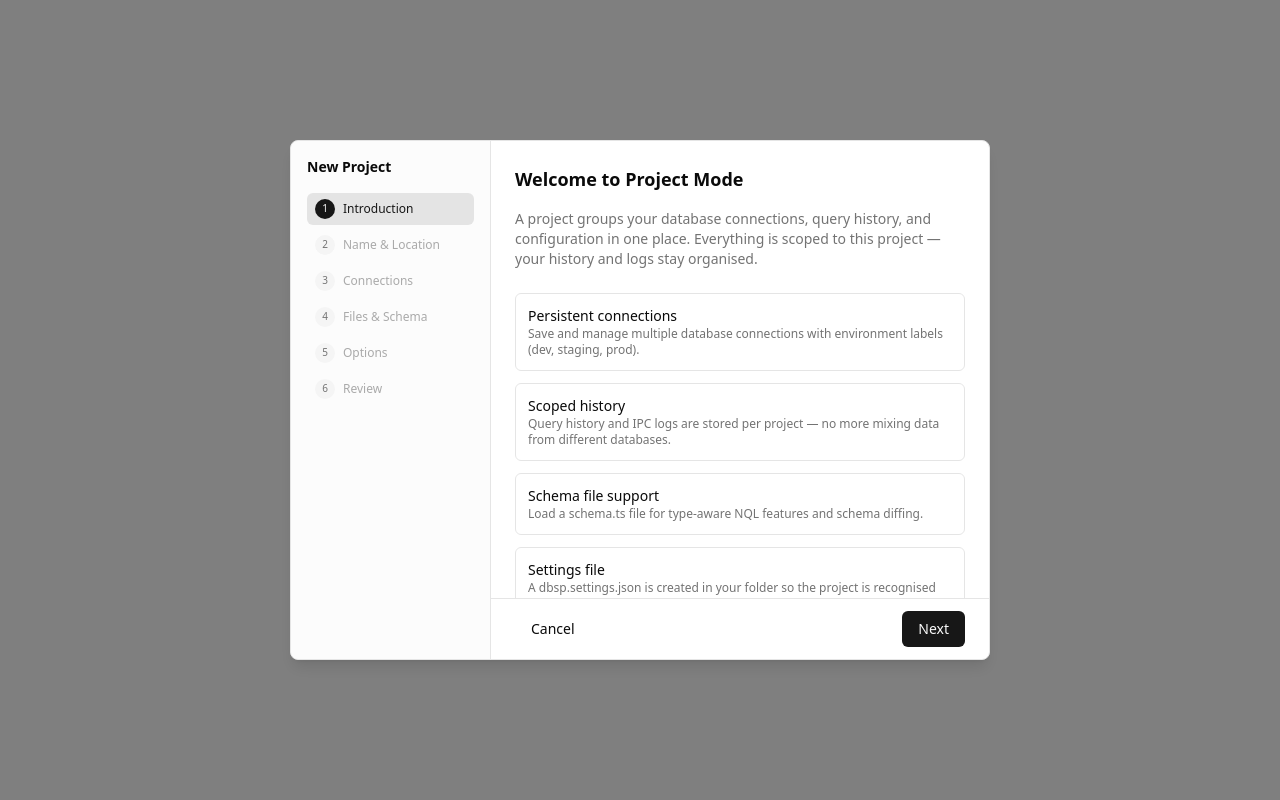
Scenario: NewProjectWizard › enables Next on step 1 when name and folder are filled
Click the button with test id "wizard-next" at (934,629), box left=902, top=611, right=965, bottom=647
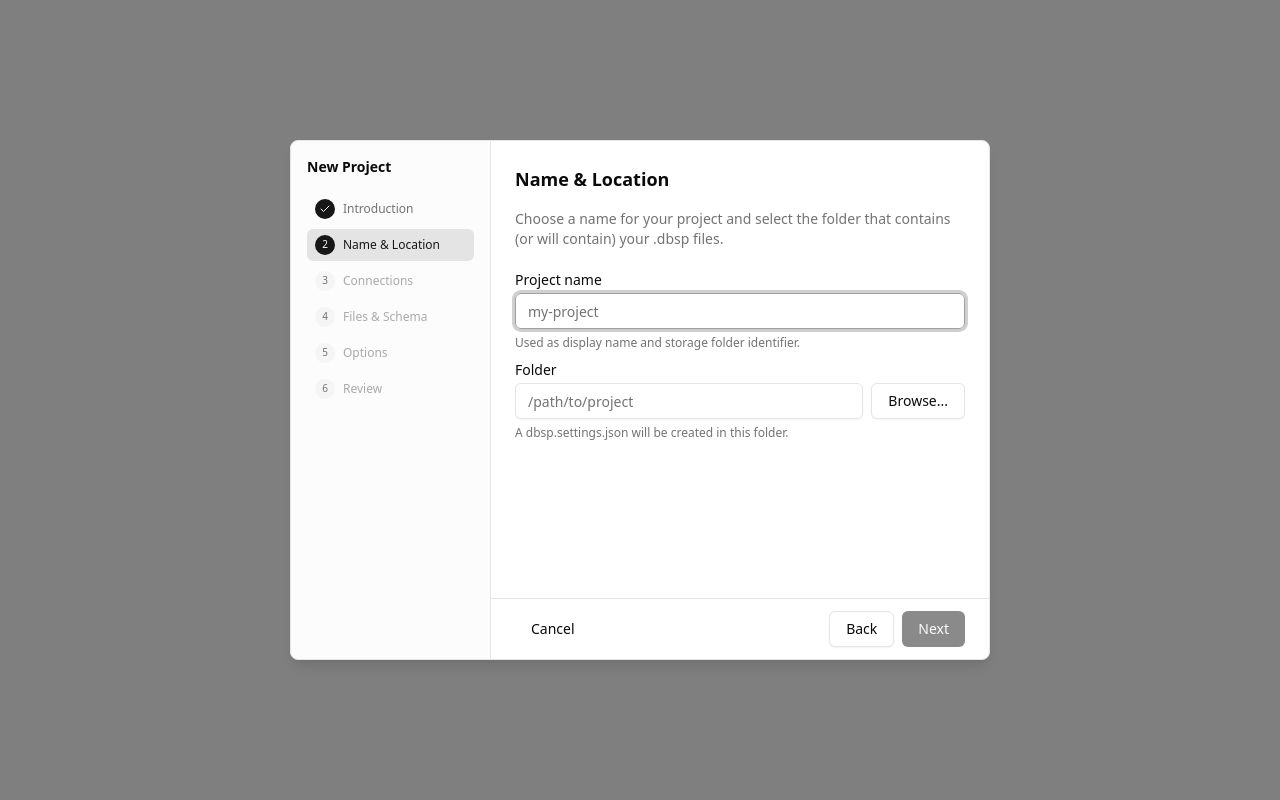
Type "test-project" into the field with placeholder "my-project" at (740,311), box left=515, top=293, right=965, bottom=329
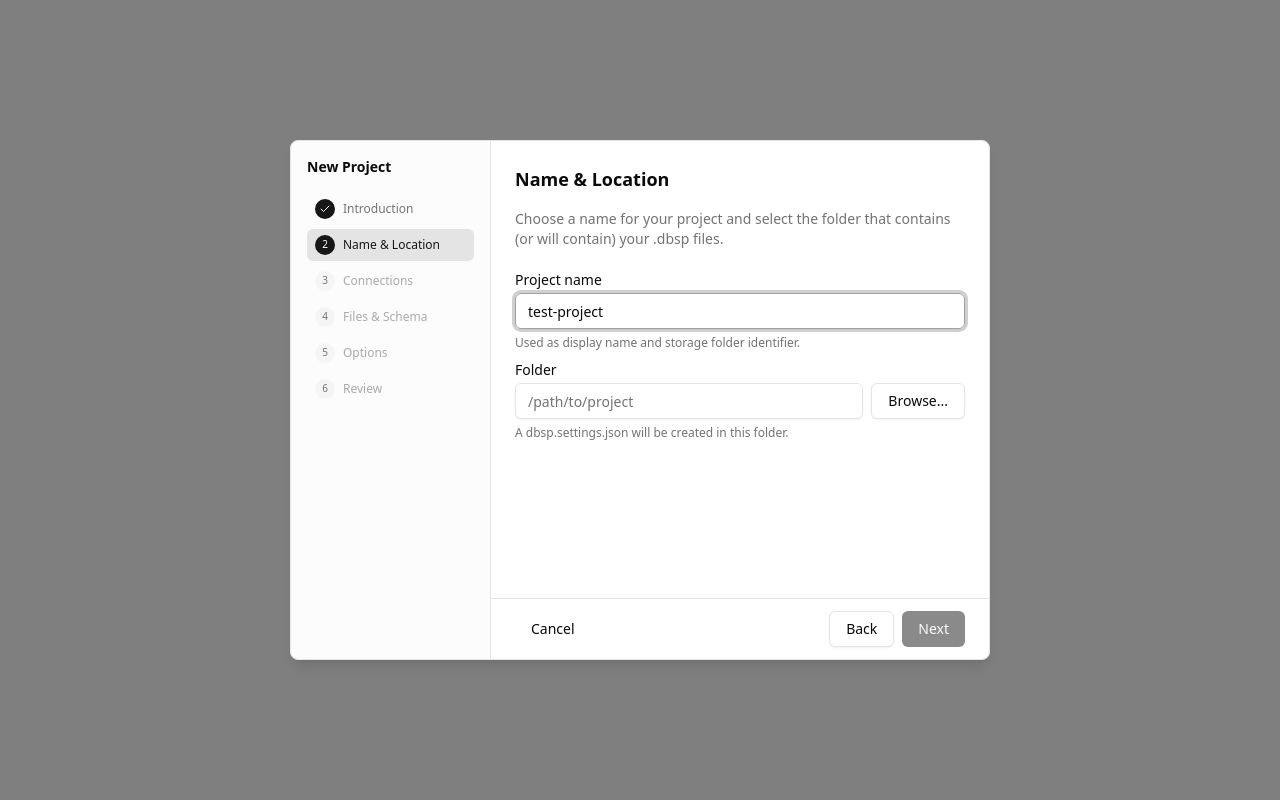
Type "/home/user/proj" into the field with placeholder "/path/to/project" at (689,401), box left=515, top=383, right=863, bottom=419
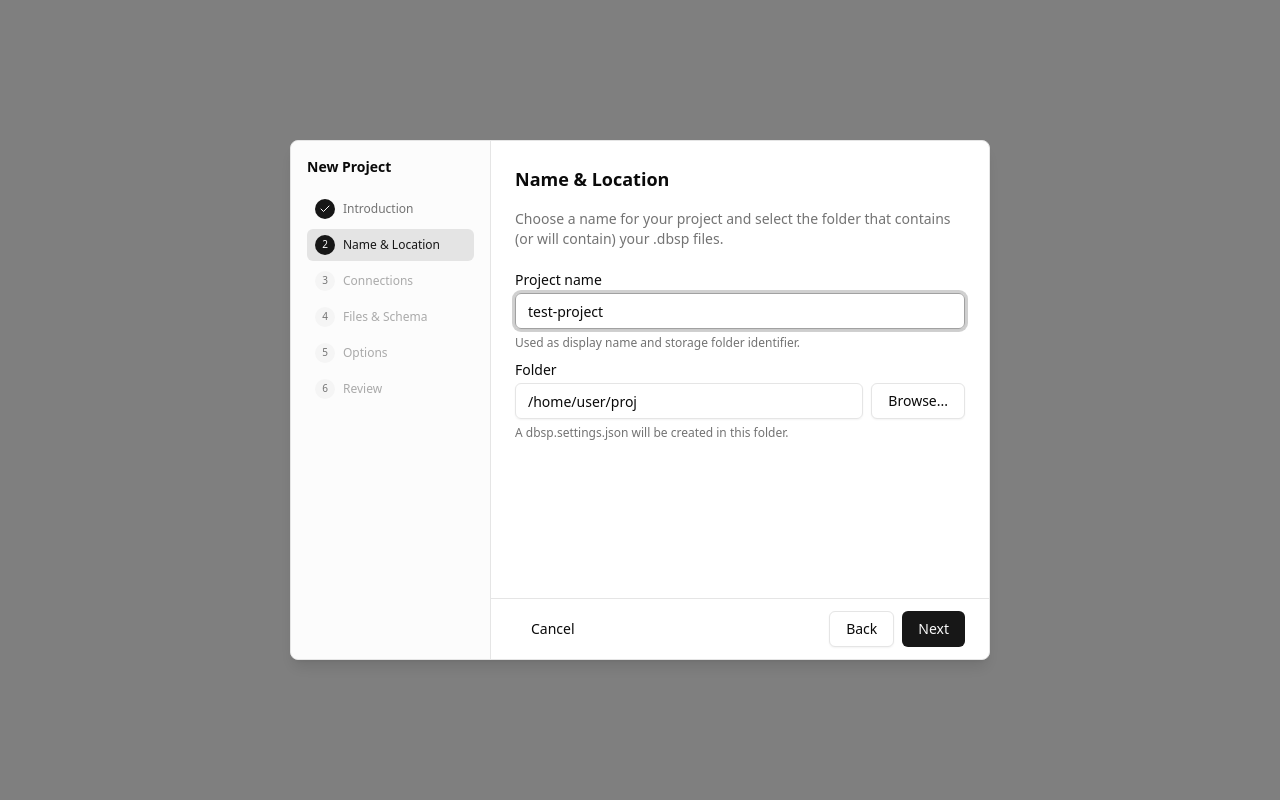
Result: the button with test id "wizard-next" is enabled at left=902, top=611, right=965, bottom=647
